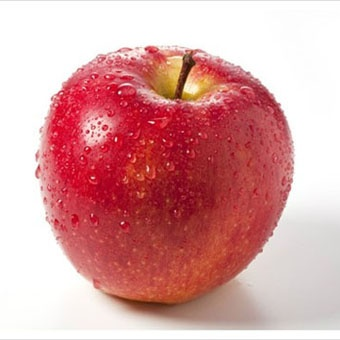apple: (35, 42, 291, 305)
